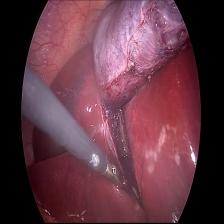Grasper: (105, 157, 134, 205)
